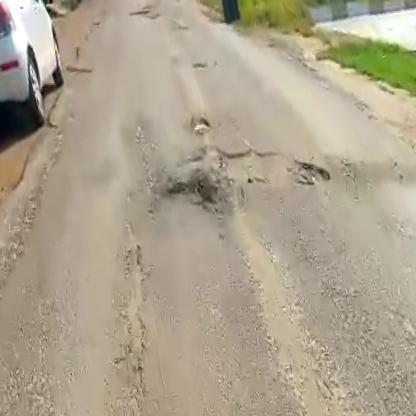pothole: (197, 129, 336, 207), (189, 111, 213, 137)
